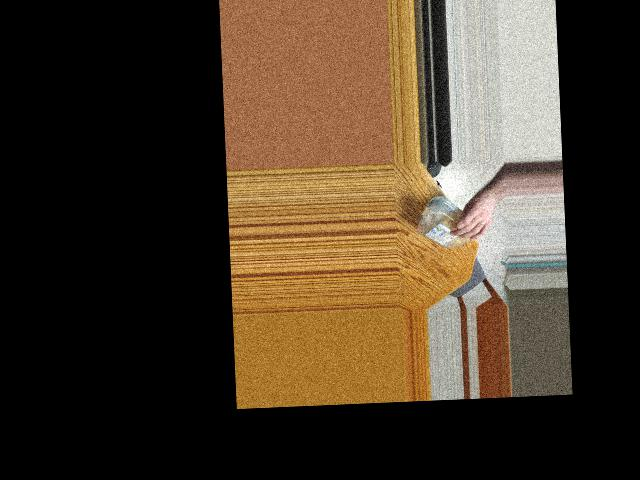cheese: (415, 197, 484, 251)
